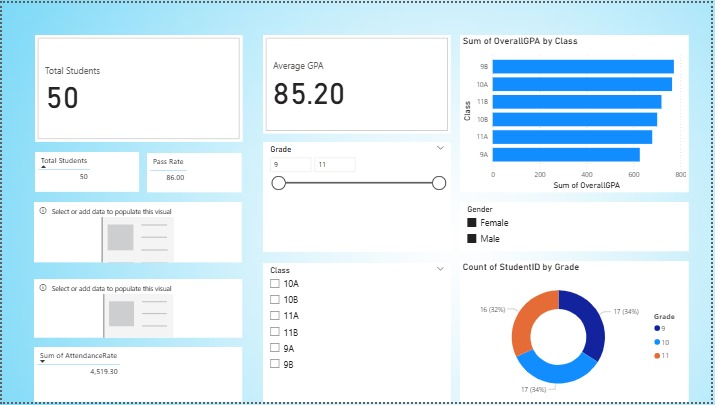

What the dashboard file says about the page in this screenshot:
{"tool":"powerbi","page":{"name":"Page 1","canvas":[1280,720],"ordinal":0},"visuals":[{"type":"cardVisual","fields":{"Data":["student_performance.Total Students"]},"box":[58.8,57.1,374.6,193.2],"z":0},{"type":"tableEx","fields":{"Values":["student_performance.Total Students"]},"box":[58.8,268.8,188.1,72.2],"z":1000},{"type":"cardVisual","fields":{"Data":["student_performance.Average GPA"]},"box":[470.3,57.1,339.3,178.1],"z":2000},{"type":"cardVisual","box":[57.1,498.9,376.3,105.8],"z":3000},{"type":"tableEx","fields":{"Values":["Sum(student_performance.AttendanceRate)"]},"box":[57.1,621.5,376.3,99.1],"z":4000},{"type":"cardVisual","box":[57.1,359.5,374.6,109.2],"z":5000},{"type":"tableEx","fields":{"Values":["student_performance.Pass Rate"]},"box":[262,270.4,171.3,70.6],"z":6000},{"type":"donutChart","fields":{"Category":["student_performance.Grade"],"Y":["CountNonNull(student_performance.StudentID)"]},"box":[826.5,465.3,413.2,255.3],"z":7000},{"type":"clusteredBarChart","fields":{"Category":["student_performance.Class"],"Y":["Sum(student_performance.OverallGPA)"]},"box":[826.5,57.1,413.2,283.9],"z":8000},{"type":"slicer","fields":{"Values":["student_performance.Grade"]},"box":[470.3,250.3,339.3,198.2],"z":9000},{"type":"slicer","fields":{"Values":["student_performance.Gender"]},"box":[826.5,359.5,413.2,89],"z":10000},{"type":"slicer","fields":{"Values":["student_performance.Class"]},"box":[470.3,468.7,339.3,252],"z":11000}]}

Visuals, with their boxes in screenshot pixels (x1, y1, x2, y2), scaled from the page's 1280x720 canvas onto the 715x405 screenshot:
cardVisual - student_performance.Total Students: 33 32 242 141
tableEx - student_performance.Total Students: 33 151 138 192
cardVisual - student_performance.Average GPA: 263 32 452 132
cardVisual: 32 281 242 340
tableEx - Sum(student_performance.AttendanceRate): 32 350 242 404
cardVisual: 32 202 241 264
tableEx - student_performance.Pass Rate: 146 152 242 192
donutChart - student_performance.Grade x CountNonNull(student_performance.StudentID): 462 262 692 404
clusteredBarChart - student_performance.Class x Sum(student_performance.OverallGPA): 462 32 692 192
slicer - student_performance.Grade: 263 141 452 252
slicer - student_performance.Gender: 462 202 692 252
slicer - student_performance.Class: 263 264 452 404
